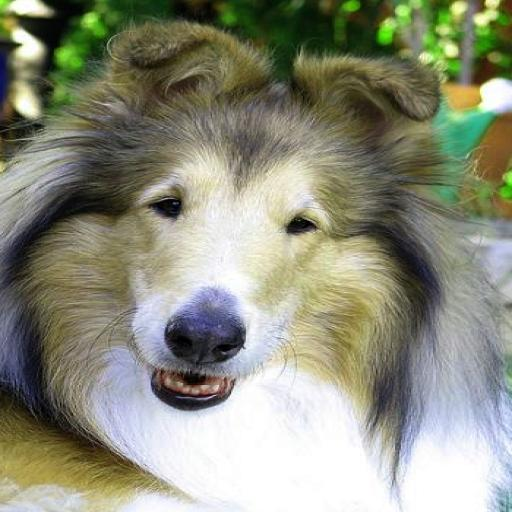dog_face: (78, 20, 433, 407)
